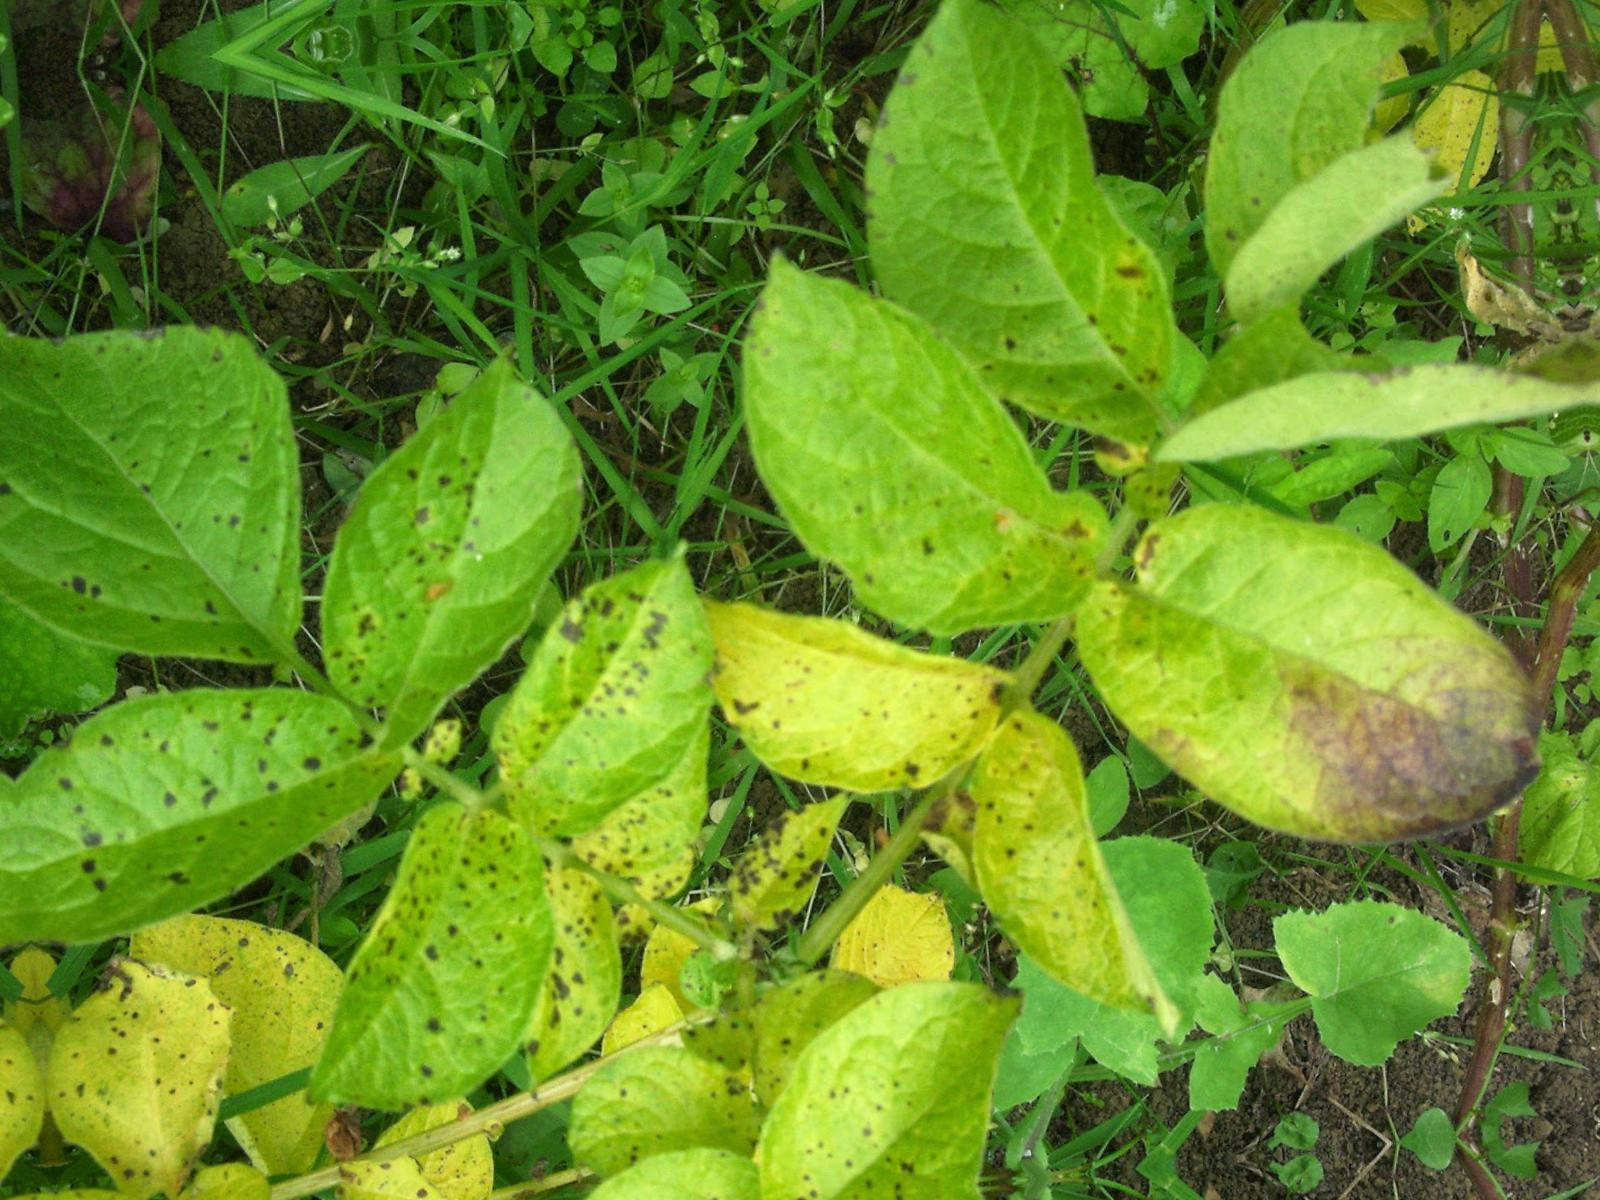Tomato Septoria leaf spot: (703, 204, 1119, 661), (306, 342, 630, 779), (295, 730, 588, 1148), (8, 662, 402, 950), (469, 533, 723, 865), (947, 673, 1169, 1037), (674, 575, 1007, 813), (42, 947, 256, 1200), (693, 788, 873, 950)
